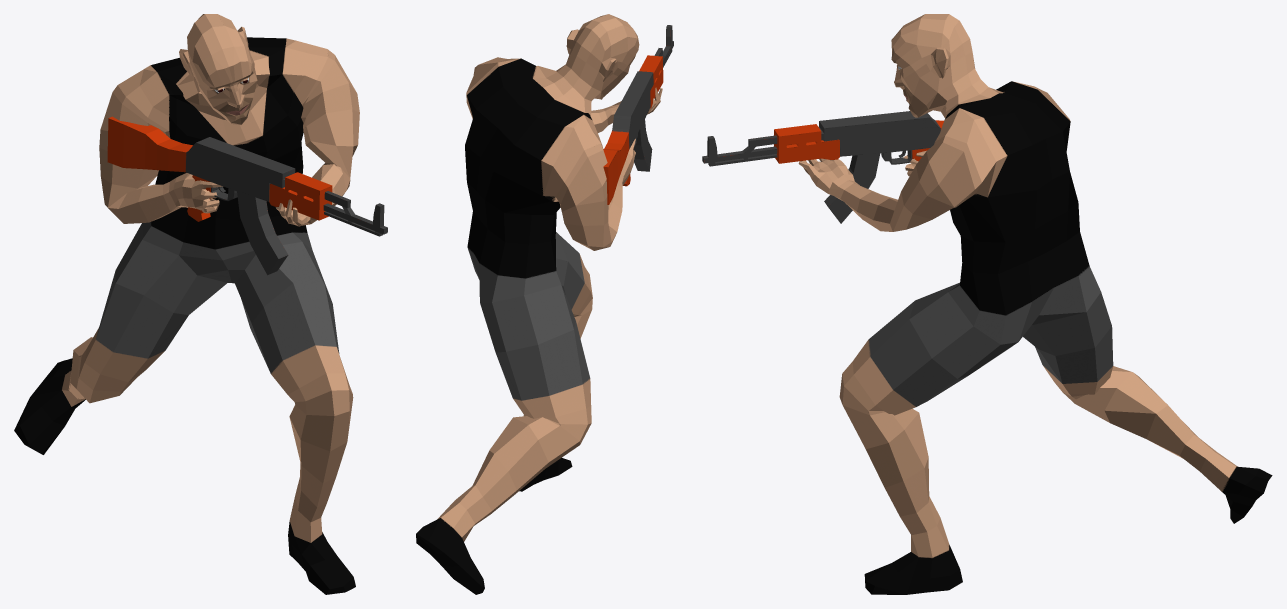
The model's file is PlayerWalk(11).obj.
3 views of the same model, side by side, from view 1: azimuth 30°, elevation 25°; view 2: azimuth 150°, elevation 25°; view 3: azimuth 270°, elevation 25° (orthographic). The views are drawn at different scales.
Visible parts, largest first — view 1: Plane002, Object001; view 2: Plane002, Object001; view 3: Plane002, Object001.
Part boxes in pixels (left/top/right/bottom): Plane002: left=14, top=14, right=359, bottom=594; Object001: left=107, top=116, right=387, bottom=275; Plane002: left=416, top=14, right=662, bottom=594; Object001: left=603, top=25, right=673, bottom=204; Plane002: left=798, top=14, right=1272, bottom=594; Object001: left=702, top=111, right=943, bottom=223.
Size of the model in its own units: 574 by 1539 by 1498.
